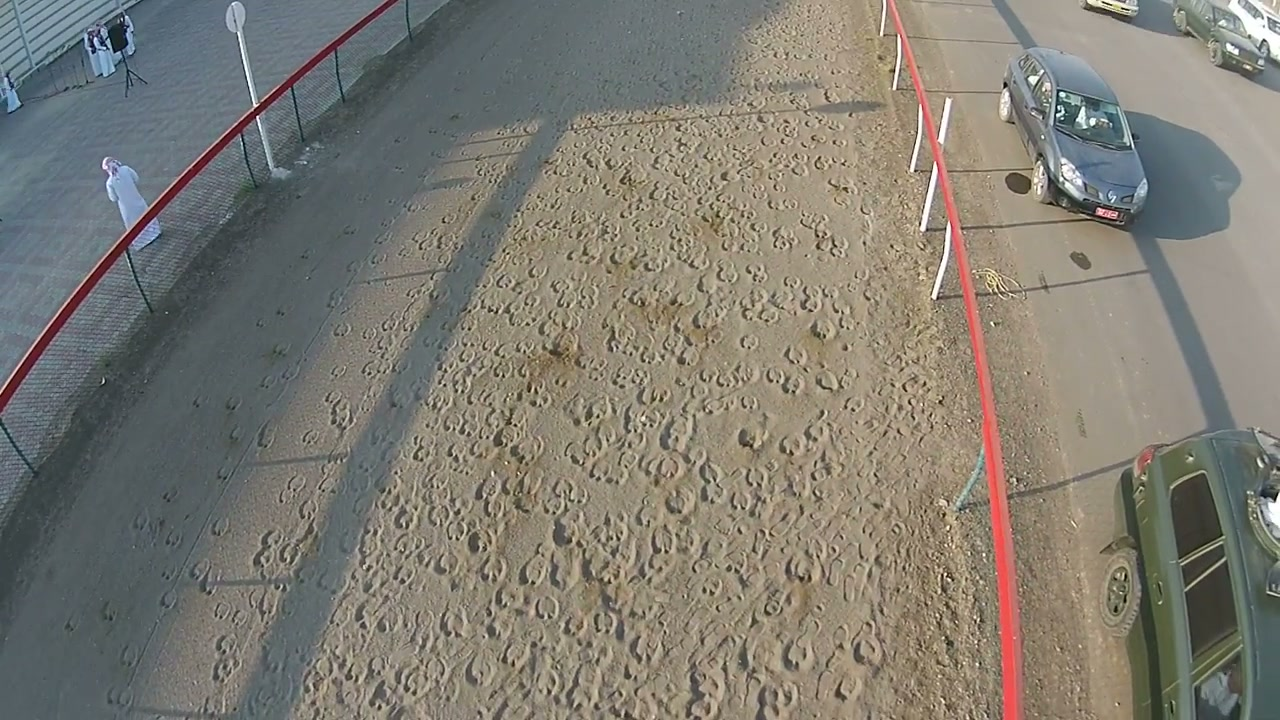animal_foot_print: (116, 0, 971, 719), (816, 659, 865, 705), (688, 663, 726, 719), (564, 659, 601, 712), (464, 645, 499, 690), (759, 680, 799, 719), (850, 621, 883, 667), (782, 634, 815, 673), (326, 391, 353, 431), (105, 685, 135, 716)
